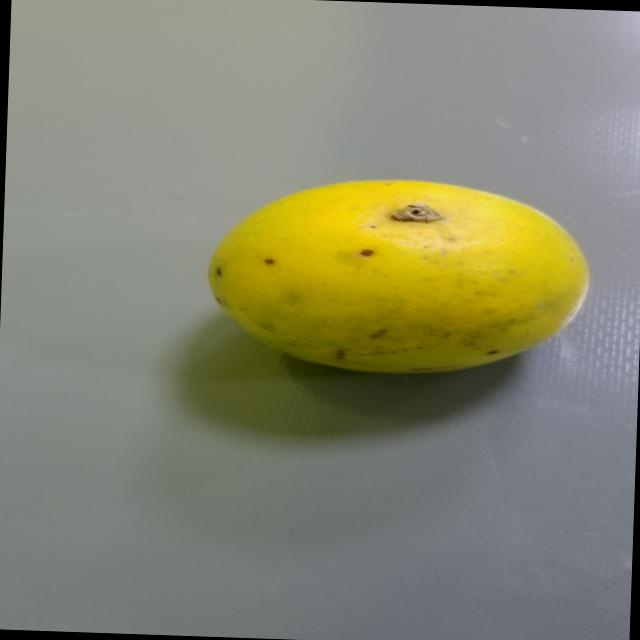agrume: (197, 174, 612, 393)
